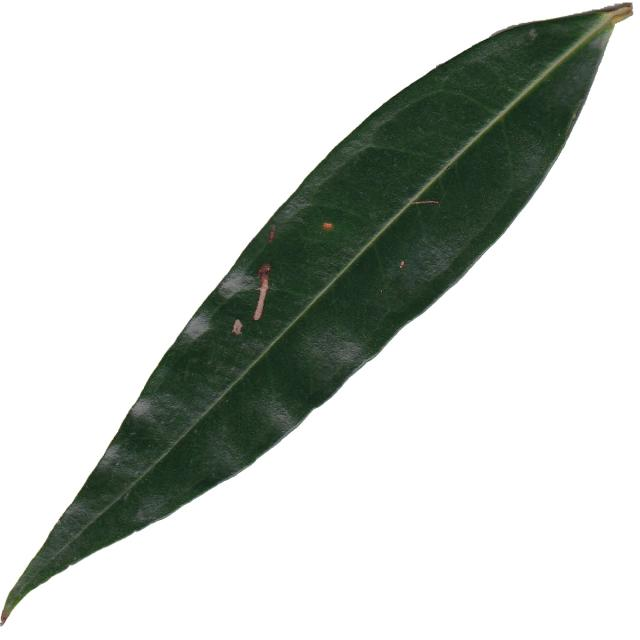Medicinal-Rose Apple: (2, 0, 640, 637)
